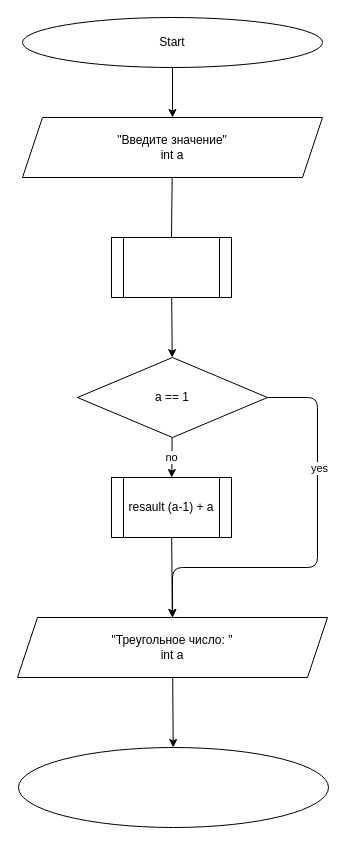
Some shapes in this 346 by 845 pixel diagram are drawn without their labels. The shapes that lost their labels are listed below. From the top down, each one's box as (x1, y1, x2, y2) in pixels, then its label:
(110, 236, 232, 298): result (a)
(18, 746, 328, 828): End
